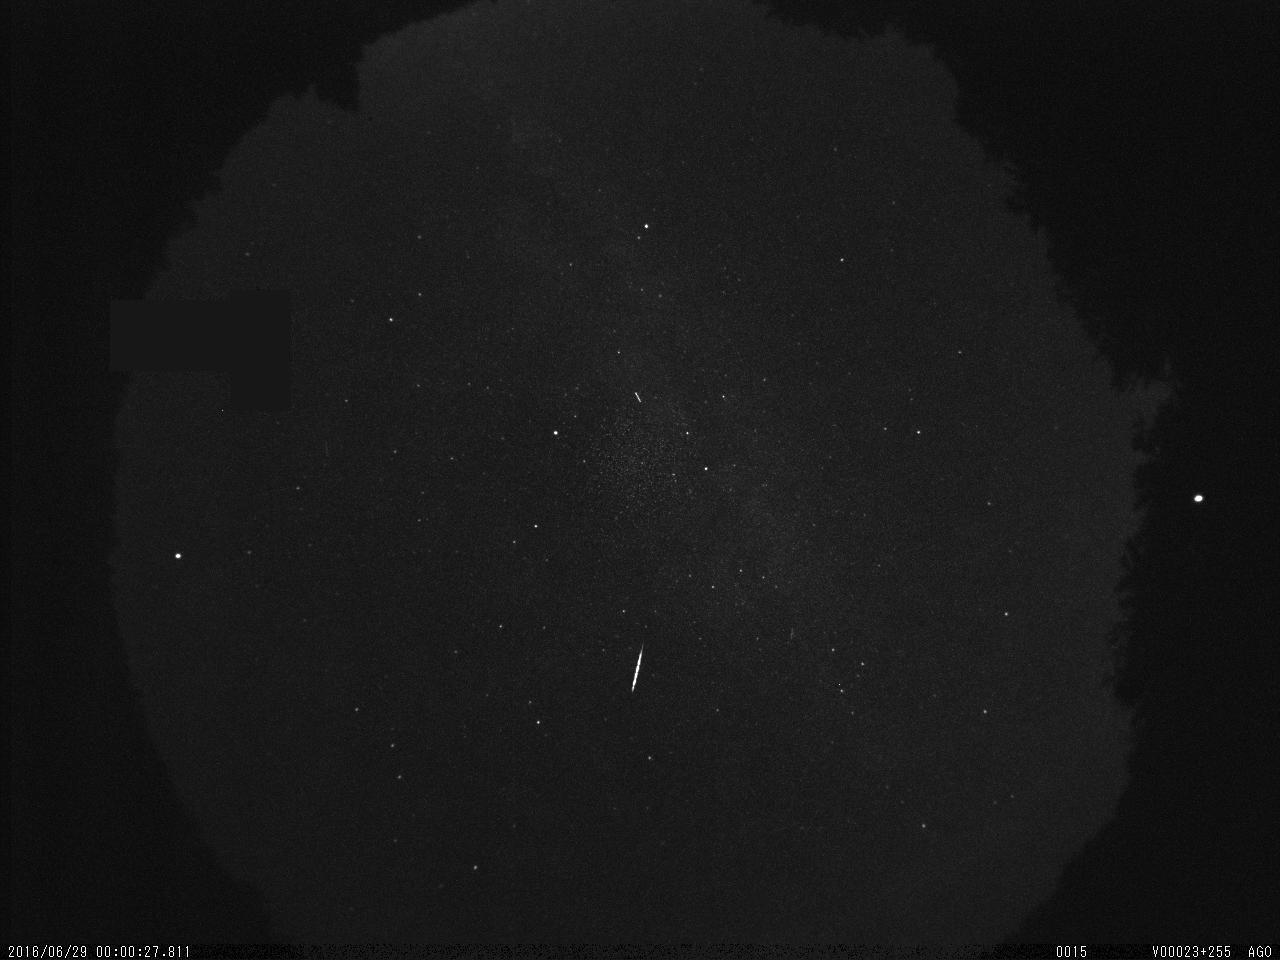meteor: (610, 633, 666, 710)
